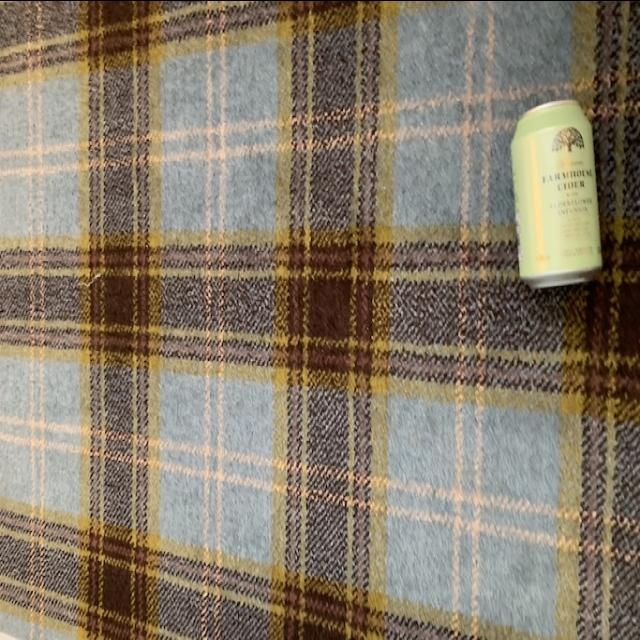Aluminum Can: (512, 90, 602, 290)
